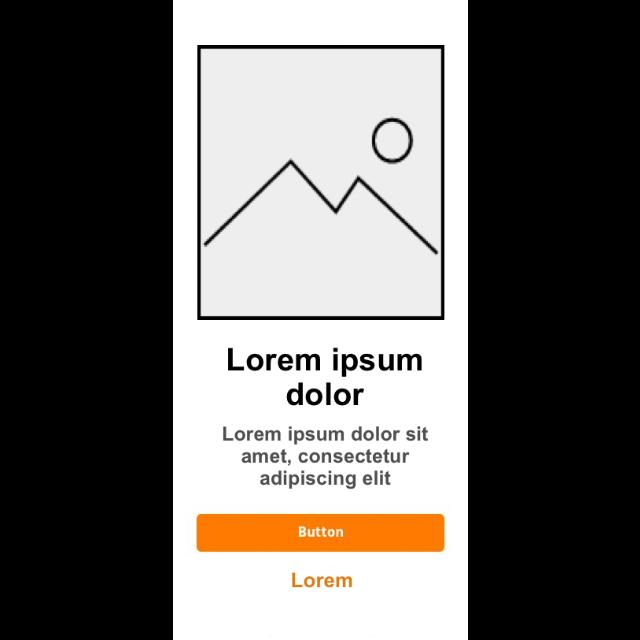image: (197, 46, 445, 320)
text: (222, 426, 428, 490), (226, 348, 422, 407), (292, 572, 352, 588)
textbutton: (196, 514, 444, 552)
